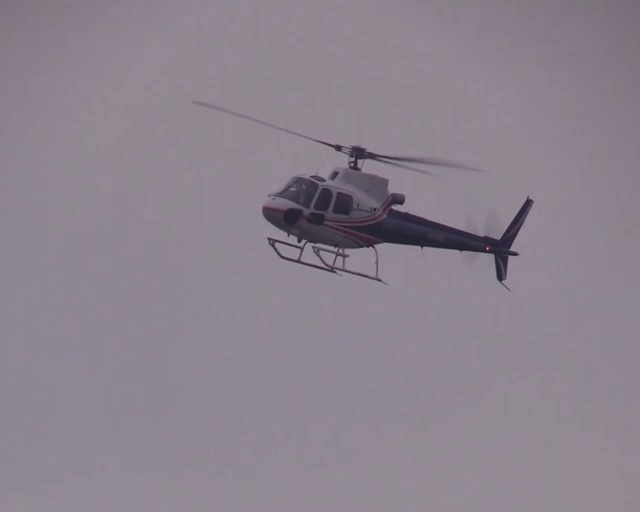HELICOPTER: (188, 97, 532, 289)
